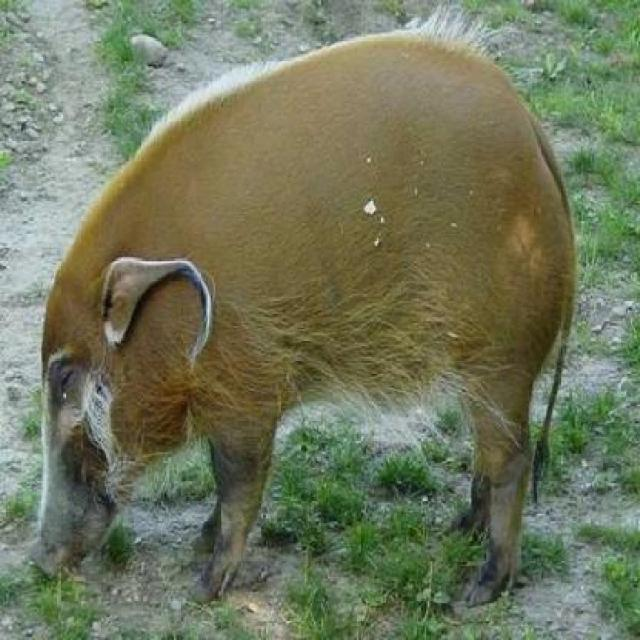pig: (14, 74, 638, 623)
